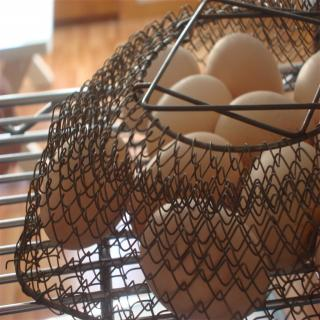Egg: (38, 32, 320, 320)
